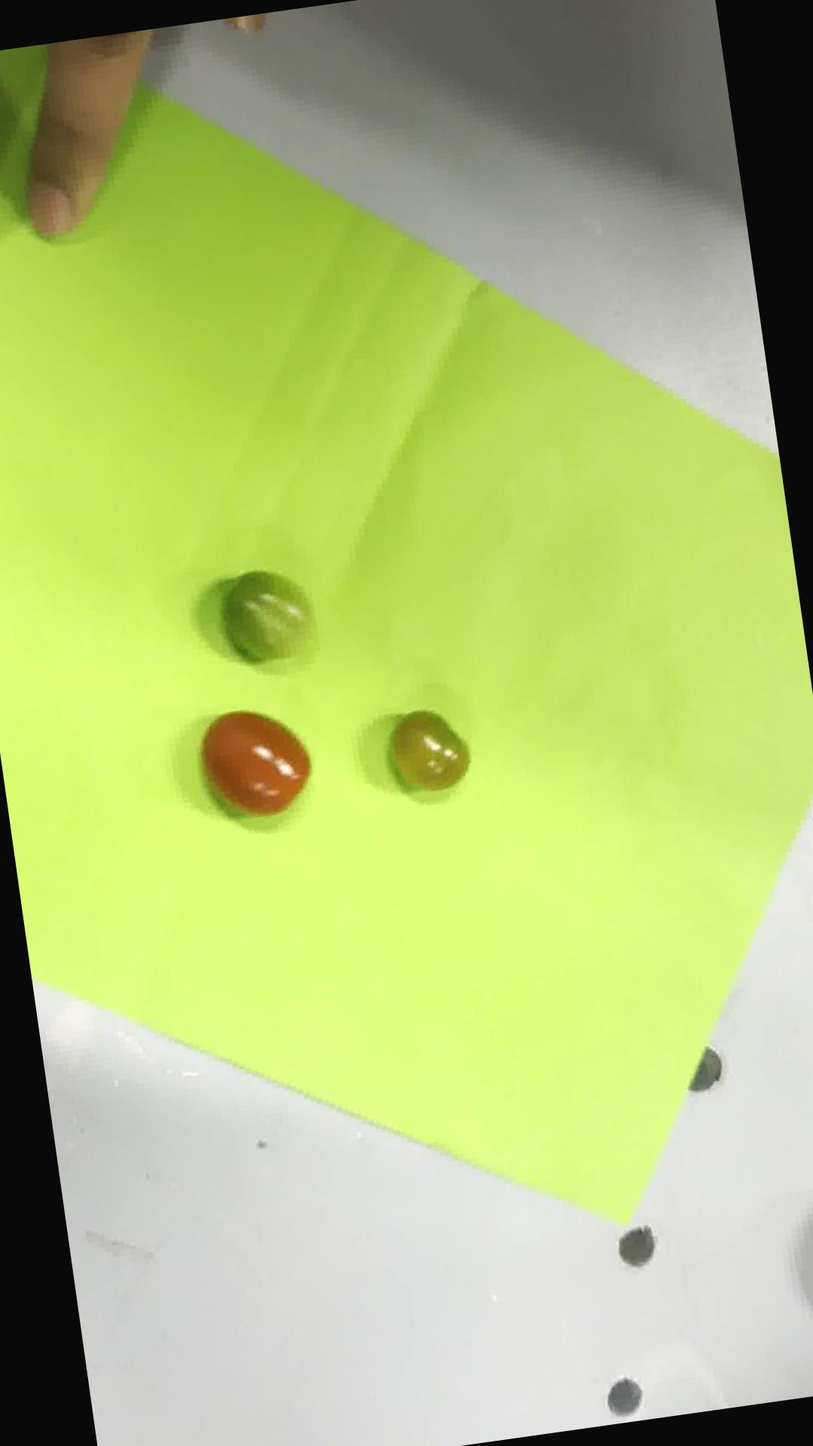green_cherry_tomato: (224, 570, 310, 660)
red_cherry_tomato: (202, 711, 310, 814)
yellow_cherry_tomato: (389, 710, 470, 792)
